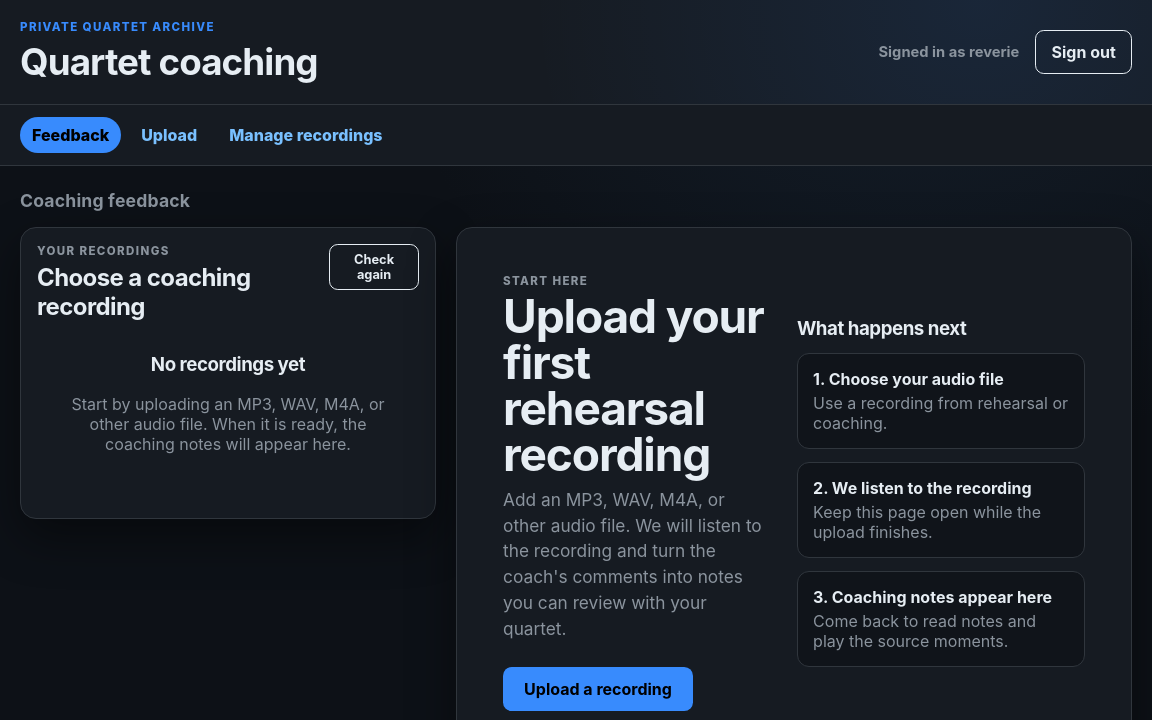
Test case: evidence ledger app › uses the empty first-run space to guide upload and explain the next steps
This screenshot has width=1152, height=720.
Expected: the heading "No recordings yet" is shown, [151, 353, 305, 376]
Expected: the heading "Upload your first rehearsal recording" is shown, [503, 293, 765, 477]
Click the button "Upload a recording".
click(598, 689)  # box [503, 667, 693, 711]
(page scrolled)
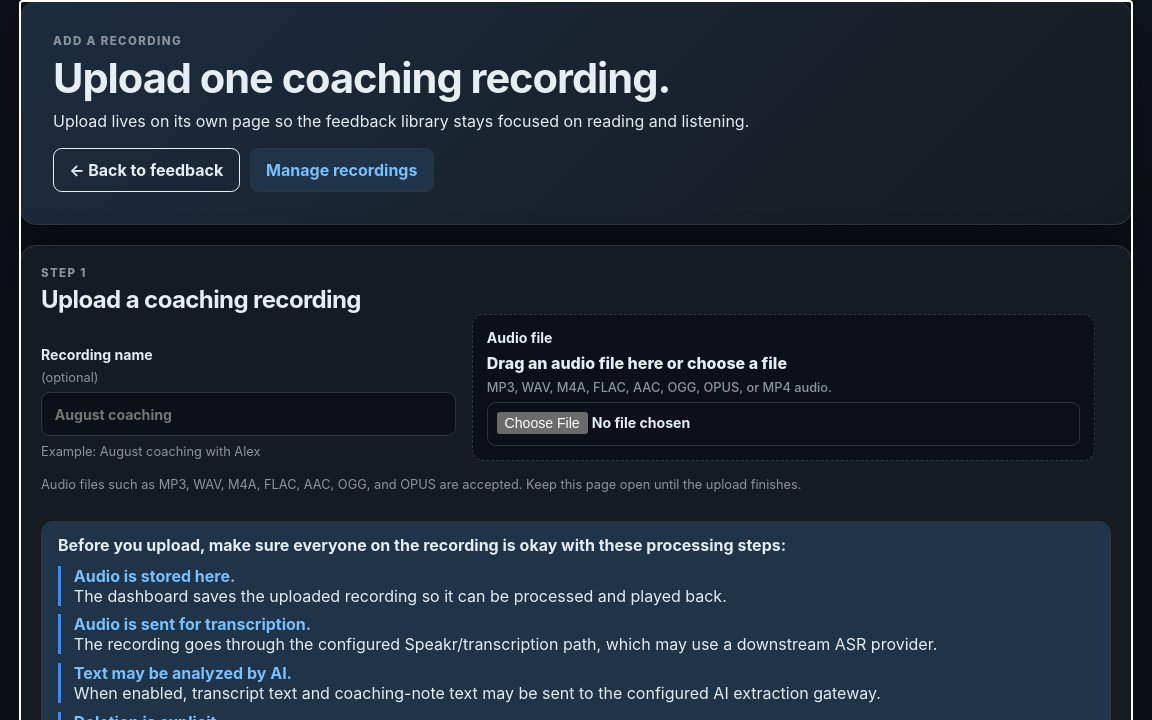
Result: the heading "Upload one coaching recording." is shown at [53, 53, 670, 103]
Result: the field labelled "Recording name (optional) Example: August coaching with Alex" is shown at [41, 392, 456, 436]
